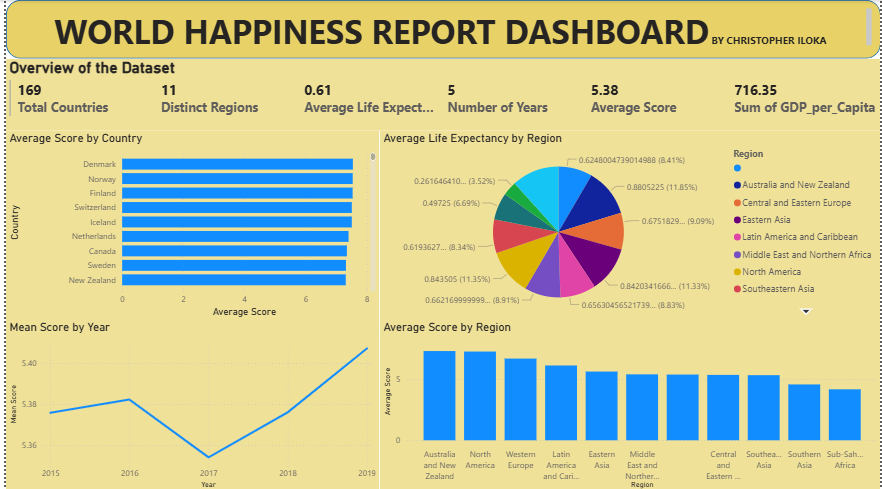

The dashboard page shown, as its layout file describes it:
{"tool":"powerbi","page":{"name":"Page 2","canvas":[1280,720],"ordinal":1},"visuals":[{"type":"shape","box":[0,0,1280,85.7],"z":0},{"type":"textbox","box":[8.4,6.7,1263.2,68.9],"z":1},{"type":"card","fields":{"Values":["merged_happiness_data.Distinct Countries"]},"box":[0,85.7,287.2,95.7],"z":2},{"type":"card","fields":{"Values":["merged_happiness_data.Distinct Regions"]},"box":[273.8,85.7,283.9,95.7],"z":3},{"type":"card","fields":{"Values":["merged_happiness_data.Average Score"]},"box":[557.7,85.7,226.8,95.7],"z":4},{"type":"card","fields":{"Values":["Sum(merged_happiness_data.GDP_per_Capita)"]},"box":[1038.1,85.7,241.9,95.7],"z":5},{"type":"lineChart","title":"Sum of Healthy Life Expectancy and Sum of GDP per Capita by Country","fields":{"Y":["Sum(merged_happiness_data.Healthy_Life_Expectancy)","Sum(merged_happiness_data.GDP_per_Capita)"],"Category":["merged_happiness_data.Country"]},"box":[934,180.8,346,539.2],"z":6},{"type":"card","fields":{"Values":["merged_happiness_data.Average Life Expectancy"]},"box":[784.5,85.7,253.6,95.7],"z":7},{"type":"lineChart","fields":{"Category":["merged_happiness_data.Year"],"Y":["merged_happiness_data.Mean Score","merged_happiness_data.Upper CI","merged_happiness_data.Lower CI"]},"box":[540.9,180.8,393.1,539.2],"z":8},{"type":"clusteredBarChart","fields":{"Category":["merged_happiness_data.Region"],"Y":["merged_happiness_data.Average Score"]},"box":[0,181.4,545.9,262],"z":9},{"type":"barChart","fields":{"Category":["merged_happiness_data.Country"],"Y":["merged_happiness_data.Lower CI","merged_happiness_data.Upper CI","Sum(merged_happiness_data.Score)"]},"box":[0,442.8,545.9,277.2],"z":10}]}

Visuals, with their boxes in screenshot pixels (x1, y1, x2, y2), scaled from the page's 1280x720 canvas onto the 882x489 screenshot:
shape: [left=0, top=0, right=881, bottom=58]
textbox: [left=6, top=5, right=876, bottom=51]
card - merged_happiness_data.Distinct Countries: [left=0, top=58, right=198, bottom=123]
card - merged_happiness_data.Distinct Regions: [left=189, top=58, right=384, bottom=123]
card - merged_happiness_data.Average Score: [left=384, top=58, right=541, bottom=123]
card - Sum(merged_happiness_data.GDP_per_Capita): [left=715, top=58, right=881, bottom=123]
"Sum of Healthy Life Expectancy and Sum of GDP per Capita by Country" lineChart: [left=644, top=123, right=881, bottom=488]
card - merged_happiness_data.Average Life Expectancy: [left=541, top=58, right=715, bottom=123]
lineChart - merged_happiness_data.Year x merged_happiness_data.Mean Score: [left=373, top=123, right=644, bottom=488]
clusteredBarChart - merged_happiness_data.Region x merged_happiness_data.Average Score: [left=0, top=123, right=376, bottom=301]
barChart - merged_happiness_data.Country x merged_happiness_data.Lower CI: [left=0, top=301, right=376, bottom=488]
